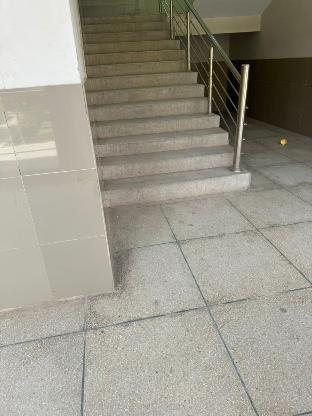stair: (75, 0, 251, 202)
